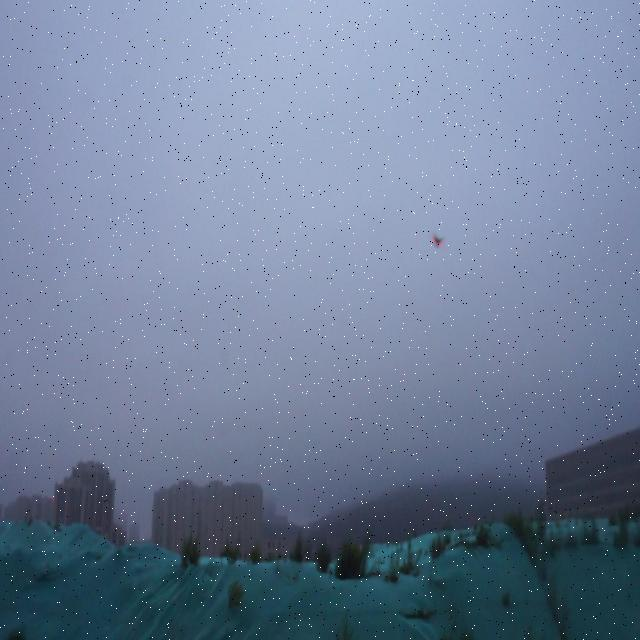UAV: (430, 234, 445, 248)
